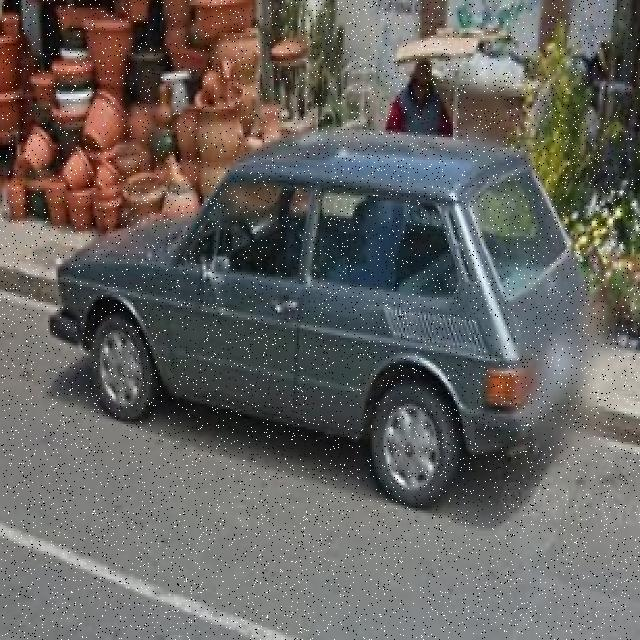cars: (44, 149, 579, 506)
